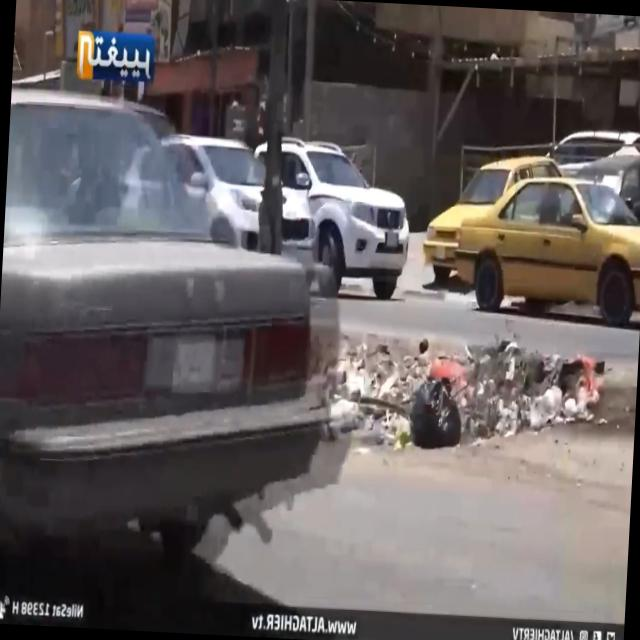high trash: (331, 339, 604, 449)
